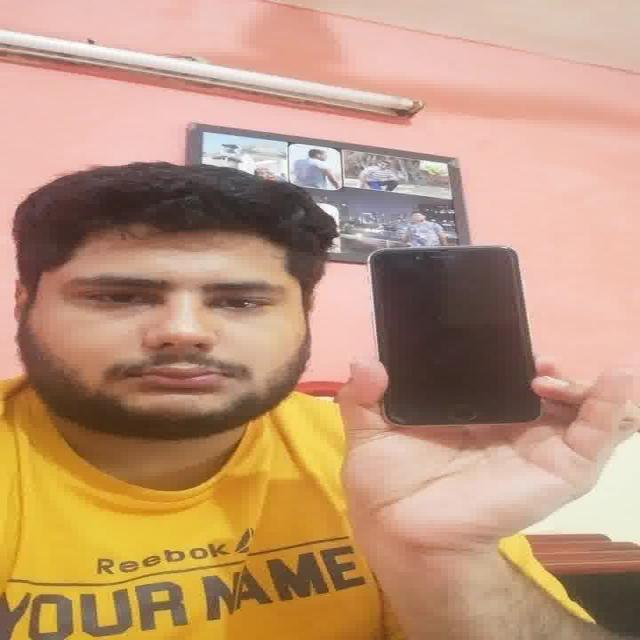Phone: (366, 243, 543, 426)
